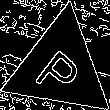P_NE: (32, 36, 89, 99)
